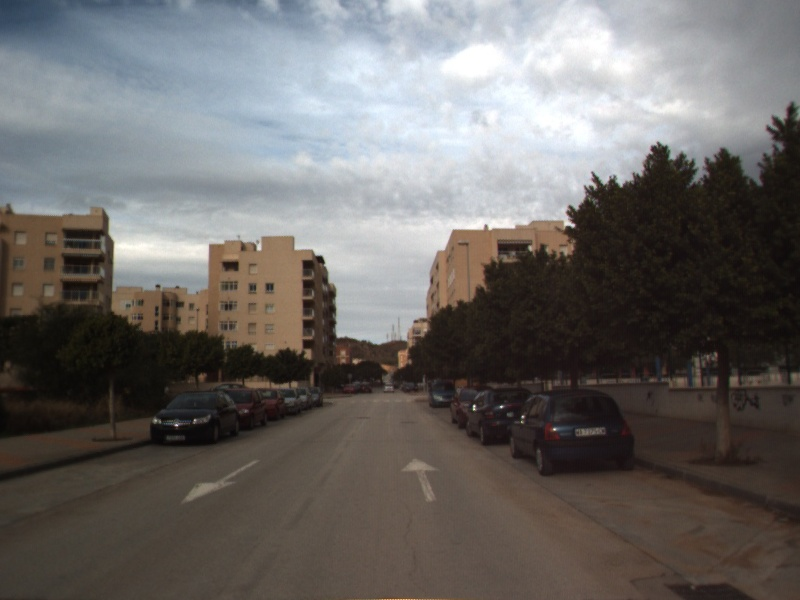STRAIGHT: (399, 455, 443, 504)
